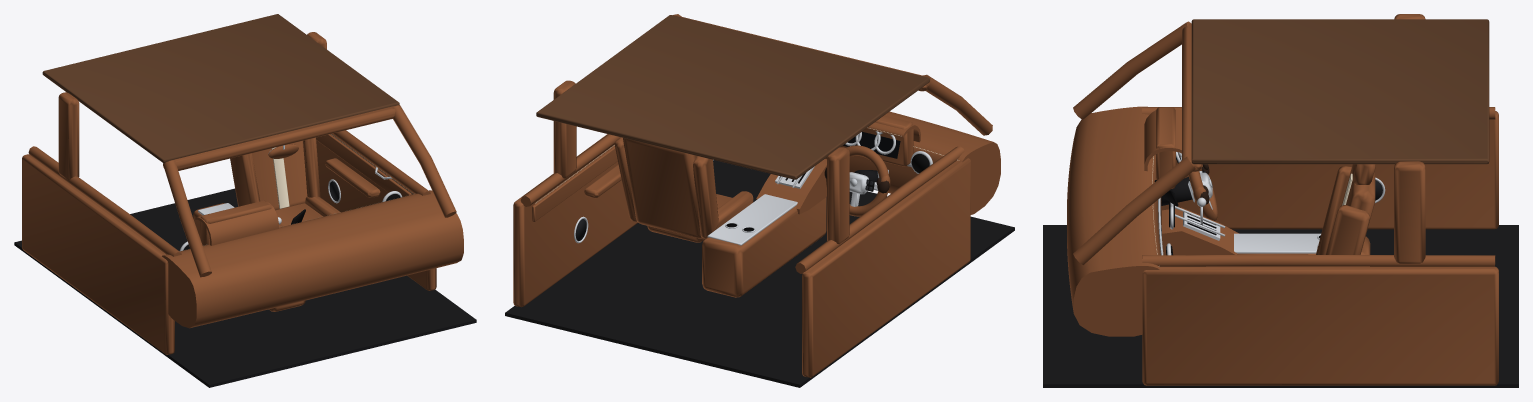
File: int_pagani.glb
3 views of the same model, side by side, from view 1: azimuth 30°, elevation 25°; view 2: azimuth 150°, elevation 25°; view 3: azimuth 270°, elevation 25° (orthographic). The views are drawn at different scales.
Parts seen in each view (by area): view 1: box.011, Dash, box.013, box, box.010, box.003, box.016, DoorTop, box.006, Pillar.001, Hood, Pillar (+9 smaller); view 2: box.011, box.013, box, box.003, box.014, box.016, Dash, DoorTop, box.006, box.015, Stack, box.017 (+12 smaller); view 3: box.011, box.003, Dash, box.013, box, DoorTop.001, box.008, Pillar.001, Pillar, Stack, box.015, box.019 (+8 smaller).
Part boxes in pixels (box(x1,y1,x2,y2)): box.011: box(42, 14, 399, 163); Dash: box(162, 190, 463, 328); box.013: box(14, 188, 476, 387); box: box(22, 154, 174, 354); box.010: box(163, 106, 395, 170); box.003: box(316, 130, 436, 290); box.016: box(252, 141, 307, 210); DoorTop: box(28, 146, 181, 256); box.006: box(58, 92, 79, 180); Pillar.001: box(392, 105, 456, 217); Hood: box(195, 201, 278, 245); Pillar: box(163, 160, 211, 277); box.011: box(536, 15, 929, 179); box.013: box(505, 160, 1014, 387); box: box(802, 158, 970, 377); box.003: box(513, 134, 637, 307); box.014: box(702, 197, 826, 297); box.016: box(623, 138, 701, 238); Dash: box(825, 111, 1000, 214); DoorTop: box(795, 146, 964, 273); box.006: box(827, 147, 849, 244); box.015: box(707, 194, 797, 245); Stack: box(756, 159, 826, 214); box.017: box(693, 156, 718, 238); box.011: box(1191, 19, 1489, 164); box.003: box(1142, 266, 1498, 385); Dash: box(1067, 106, 1161, 336); box.013: box(1043, 225, 1518, 387); box: box(1160, 111, 1498, 229); DoorTop.001: box(1142, 254, 1495, 266); box.008: box(1394, 161, 1425, 263); Pillar.001: box(1073, 156, 1195, 264); Pillar: box(1073, 21, 1191, 119); Stack: box(1162, 207, 1238, 255); box.015: box(1234, 233, 1320, 253); box.019: box(1325, 205, 1369, 254).
Bounding box in the file's own units: 1.93 × 1.22 × 2.4.
